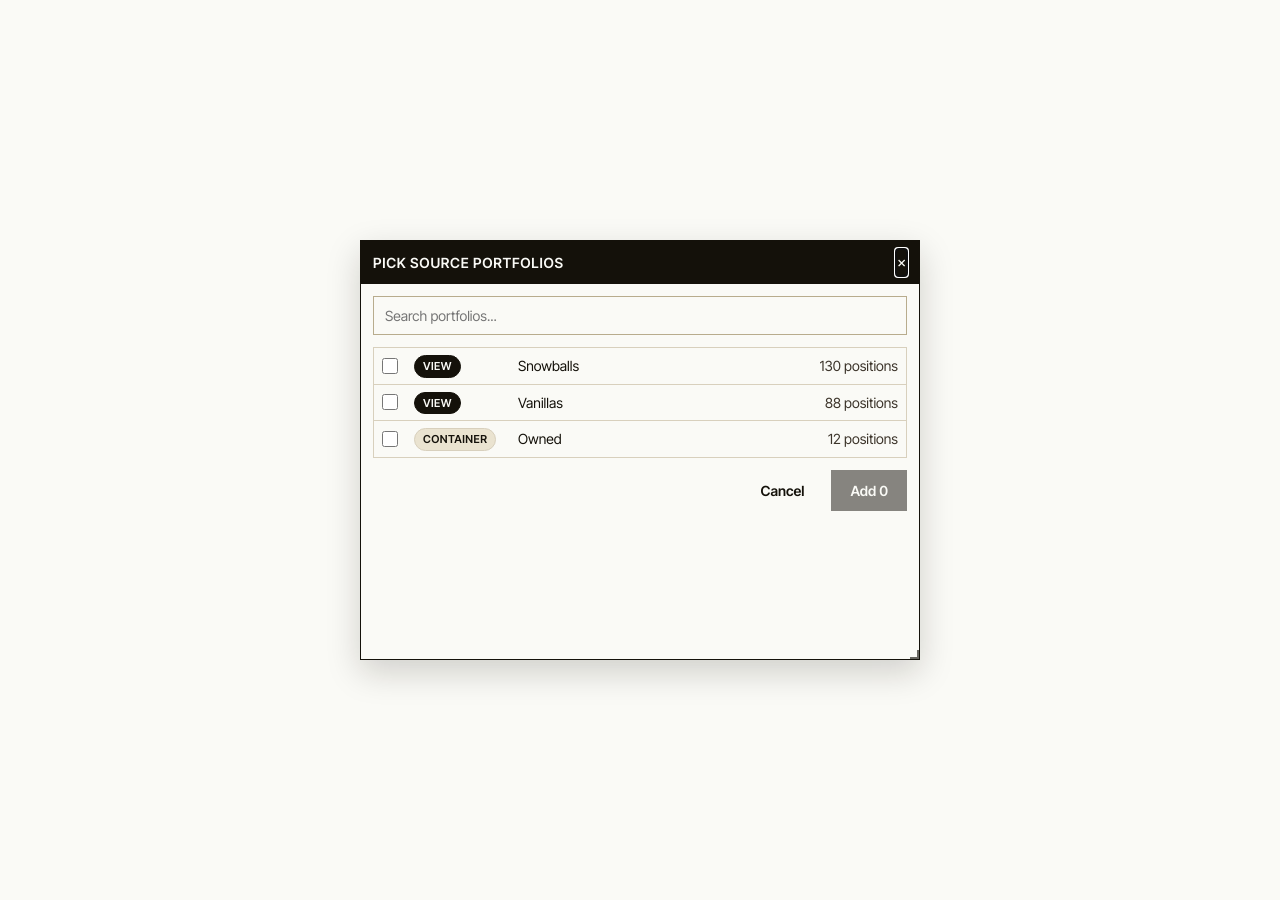
Scenario: filters by search
Type "snow" into the field with placeholder "Search portfolios..." at (640, 316), box [373,296,907,335]
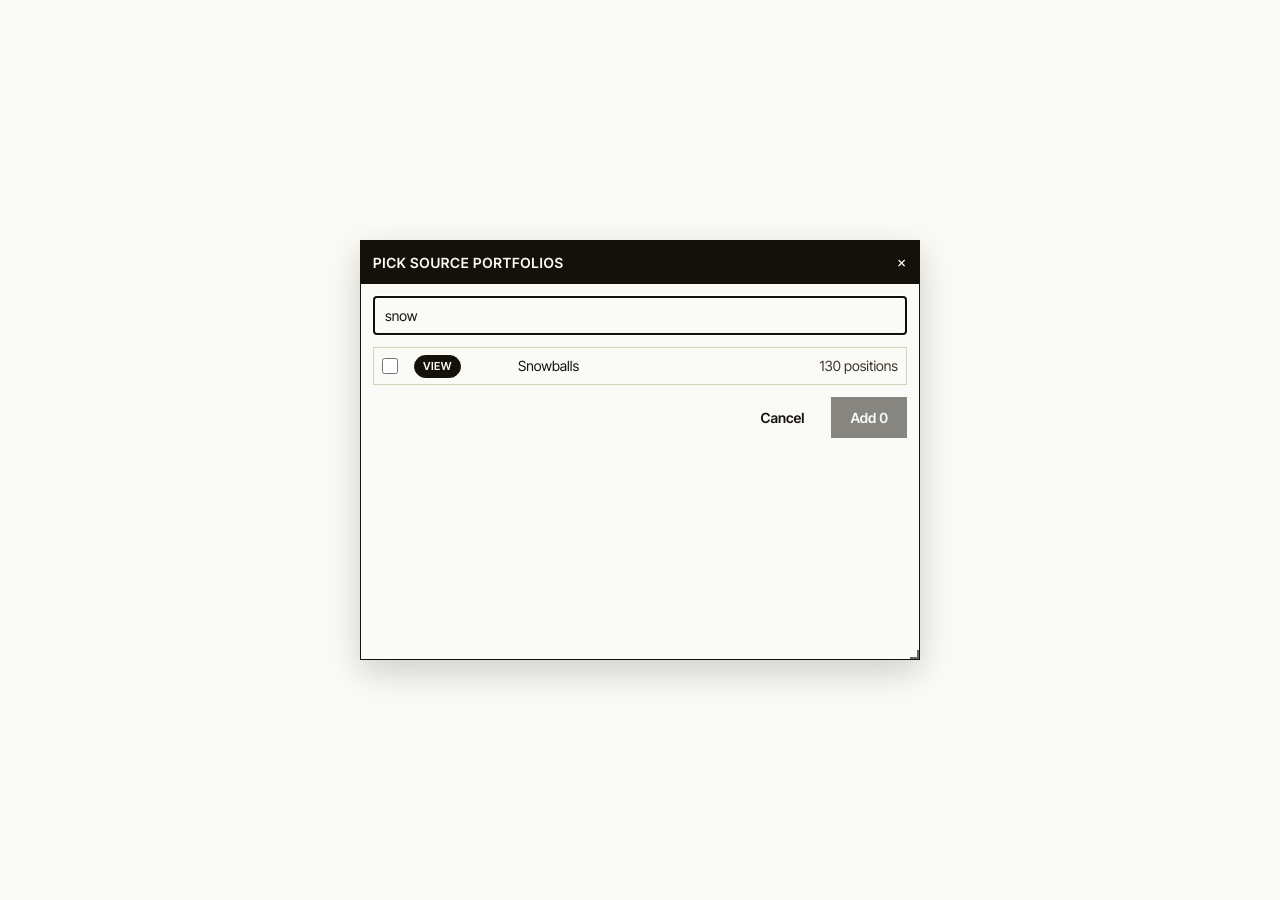
Expected: the text "Snowballs" is shown, [518,357,579,374]
Now the text "Vanillas" is gone
